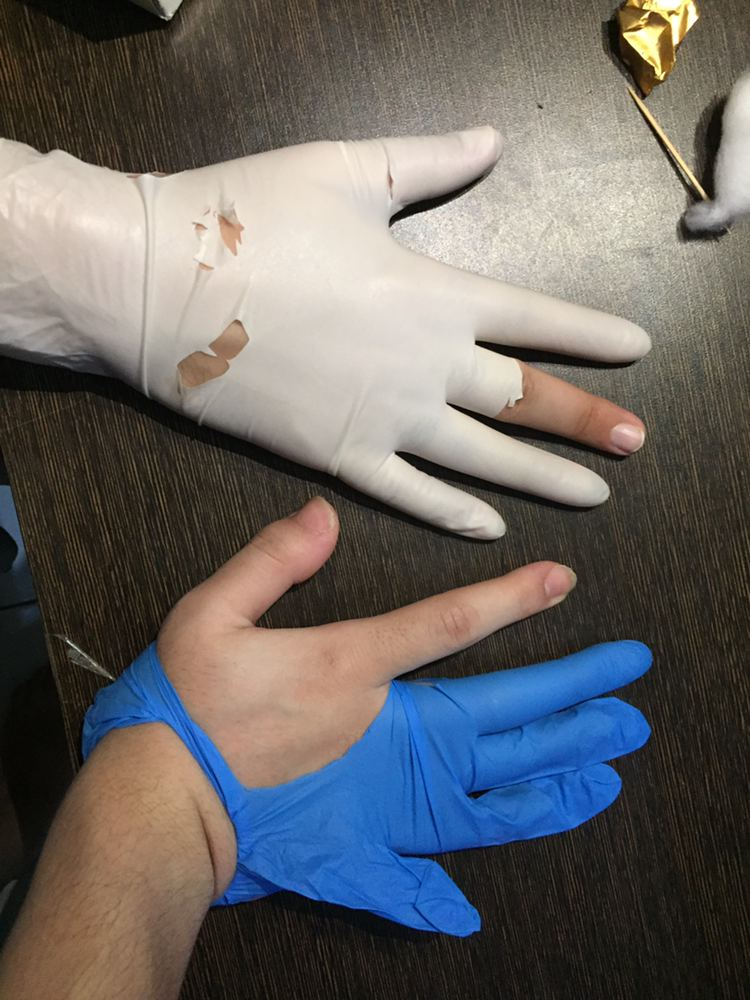defected: (9, 109, 707, 554), (67, 487, 670, 969)
